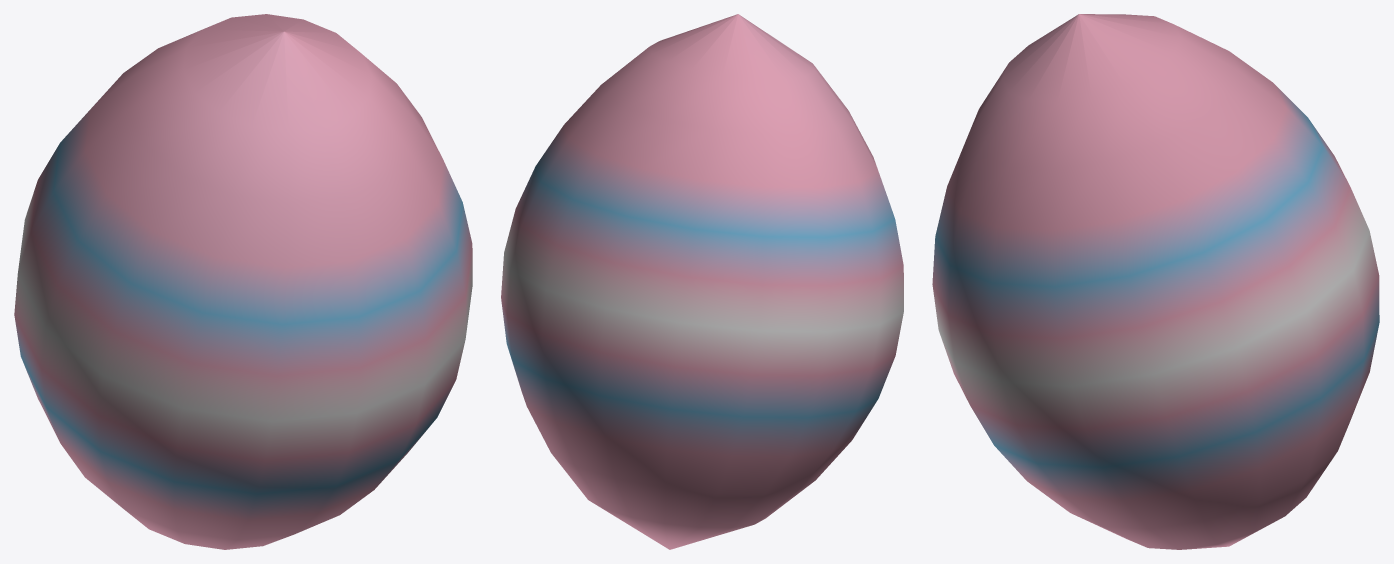
Rendered from item_ev_egg_0.glb.
The picture shows the model from 3 angles, left to right: view 1: azimuth 30°, elevation 25°; view 2: azimuth 150°, elevation 25°; view 3: azimuth 270°, elevation 25°; orthographic projection. The views are drawn at different scales.
Parts seen in each view (by area): view 1: item_ev_egg_0_gloss; view 2: item_ev_egg_0_gloss; view 3: item_ev_egg_0_gloss.
Part boxes in pixels (box(x1,y1,x2,y2)): item_ev_egg_0_gloss: box(14, 14, 472, 549); item_ev_egg_0_gloss: box(501, 14, 903, 549); item_ev_egg_0_gloss: box(932, 14, 1379, 549).
Size of the model in its own units: 0.11 by 0.1453 by 0.1106.
